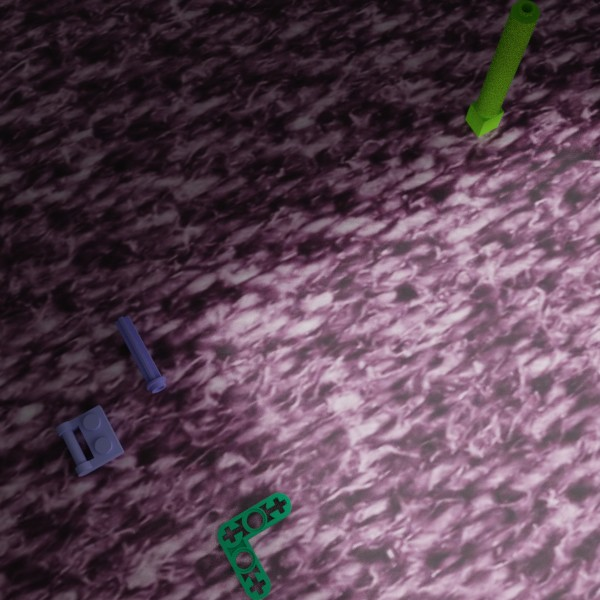lego: (465, 0, 540, 137), (217, 492, 291, 600), (55, 404, 124, 476), (114, 315, 166, 393)
